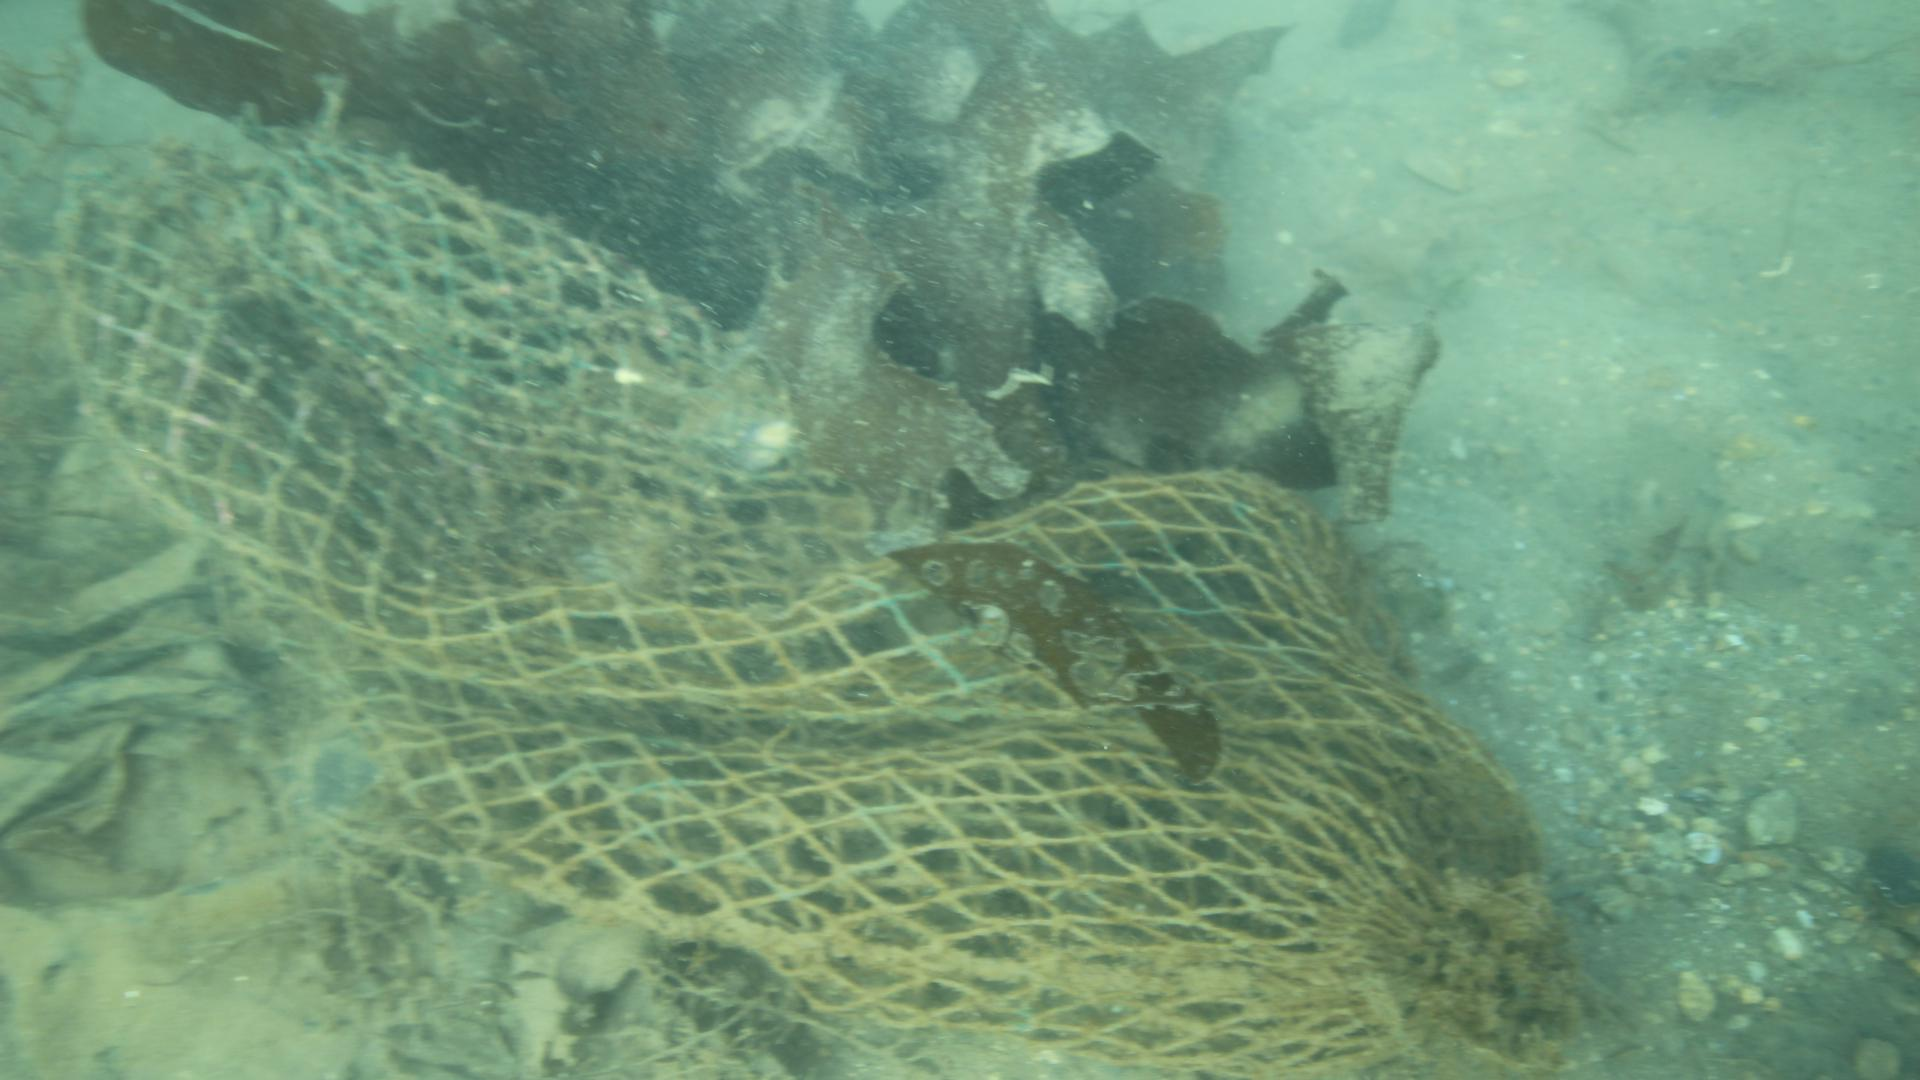fish net: (54, 135, 1540, 1080)
